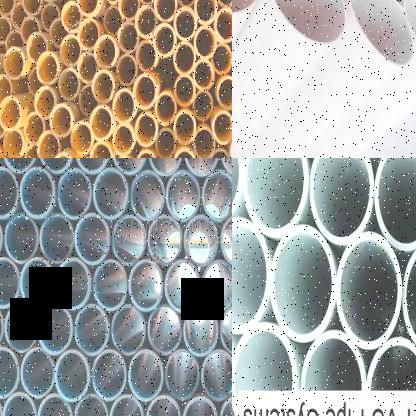pipe: (336, 232, 402, 350), (271, 224, 336, 342), (309, 158, 374, 244), (242, 158, 308, 238), (232, 217, 271, 335), (347, 0, 413, 65), (374, 158, 416, 251), (265, 0, 345, 44), (37, 302, 73, 356), (164, 260, 200, 314), (74, 212, 110, 265), (183, 304, 219, 356), (112, 215, 148, 266), (56, 258, 91, 310), (165, 169, 200, 221), (129, 350, 164, 402), (55, 350, 90, 402), (130, 259, 164, 312), (58, 167, 92, 220), (166, 348, 200, 401), (92, 168, 128, 218), (20, 168, 56, 218), (74, 304, 109, 355), (4, 213, 39, 264), (184, 215, 218, 267), (131, 170, 165, 222), (147, 305, 182, 355), (111, 305, 146, 355), (20, 258, 55, 308), (147, 215, 182, 265), (39, 214, 74, 264), (92, 350, 127, 400), (94, 260, 128, 311), (4, 302, 38, 352), (21, 347, 54, 398), (402, 240, 416, 356), (202, 169, 232, 222), (201, 350, 232, 401), (203, 259, 232, 311), (403, 0, 416, 78), (0, 347, 19, 399), (0, 257, 19, 307), (0, 167, 18, 219), (134, 112, 158, 148), (133, 74, 157, 110), (70, 120, 94, 156), (50, 103, 74, 138), (112, 89, 136, 124), (92, 69, 116, 104), (90, 106, 113, 142), (2, 392, 36, 416), (173, 110, 196, 145), (174, 7, 197, 42), (37, 393, 72, 416), (34, 86, 57, 120), (173, 42, 196, 76), (112, 122, 135, 156), (74, 393, 108, 416), (154, 23, 176, 58), (109, 394, 144, 416), (94, 36, 118, 68), (36, 52, 59, 85), (135, 5, 158, 38), (182, 395, 218, 416), (145, 395, 181, 416), (24, 112, 46, 146), (155, 92, 177, 126), (0, 96, 21, 131), (4, 47, 26, 80), (78, 18, 100, 51), (58, 68, 80, 100), (116, 54, 138, 86), (77, 52, 99, 84), (60, 34, 82, 66), (194, 26, 216, 58), (174, 76, 196, 107), (136, 40, 158, 71), (26, 33, 48, 64), (117, 22, 139, 53), (193, 127, 215, 158), (212, 111, 232, 145), (219, 304, 232, 356), (78, 84, 99, 116), (192, 60, 214, 90), (2, 128, 24, 158), (211, 44, 232, 75), (61, 1, 82, 32), (155, 127, 176, 158), (37, 130, 60, 158), (184, 158, 219, 176), (102, 4, 122, 35), (148, 158, 182, 176), (193, 91, 213, 121), (215, 8, 232, 43), (1, 158, 38, 174), (221, 214, 232, 267), (50, 19, 70, 48), (74, 158, 110, 174), (112, 158, 147, 174), (39, 158, 74, 174), (194, 0, 217, 23), (41, 4, 60, 31), (217, 76, 232, 110), (154, 0, 177, 22), (21, 16, 40, 42), (118, 0, 140, 20), (11, 3, 28, 28), (5, 30, 26, 50), (89, 141, 113, 158), (0, 75, 13, 106), (0, 15, 12, 44), (76, 0, 98, 14), (22, 0, 42, 15), (173, 147, 196, 158), (134, 149, 157, 158), (209, 149, 231, 158), (0, 107, 4, 139)
